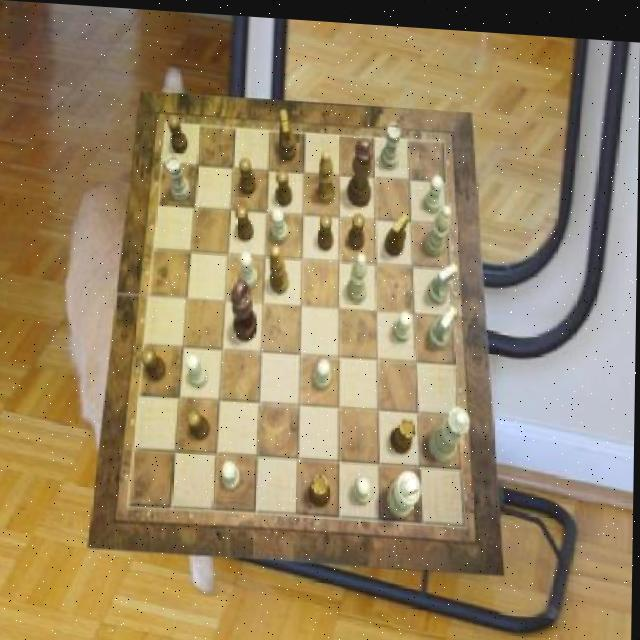bishop: (316, 144, 336, 200), (271, 242, 291, 292)
black-bishop: (233, 275, 258, 339)
black-king: (385, 206, 408, 252), (280, 106, 298, 159)
black-knight: (142, 346, 167, 380), (169, 112, 190, 151), (189, 407, 212, 439), (240, 154, 258, 193), (276, 165, 294, 204), (236, 202, 255, 237), (348, 208, 365, 246), (319, 209, 335, 247)
black-pawn: (347, 132, 375, 204)
black-queen: (392, 413, 418, 451), (310, 469, 332, 504)
black-rook: (425, 199, 452, 253), (348, 247, 368, 299)
white-bishop: (388, 465, 423, 515)
white-king: (430, 298, 458, 344), (429, 255, 457, 300)
white-knight: (186, 351, 209, 387), (424, 169, 444, 207), (241, 248, 259, 285), (393, 305, 413, 337), (273, 204, 290, 239), (314, 354, 332, 386), (224, 459, 243, 489), (355, 473, 372, 500)
white-pawn: (430, 398, 472, 458)
white-queen: (167, 154, 192, 200), (381, 117, 402, 166)
